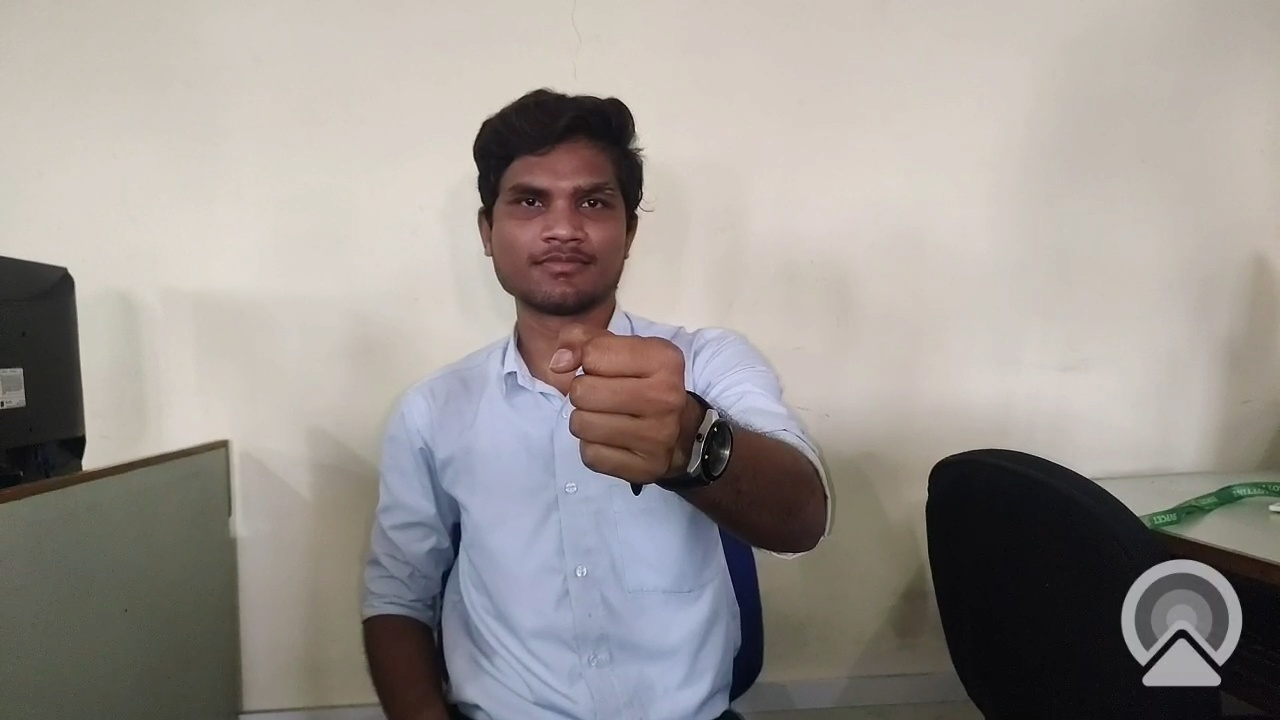Yes: (526, 303, 719, 509)
